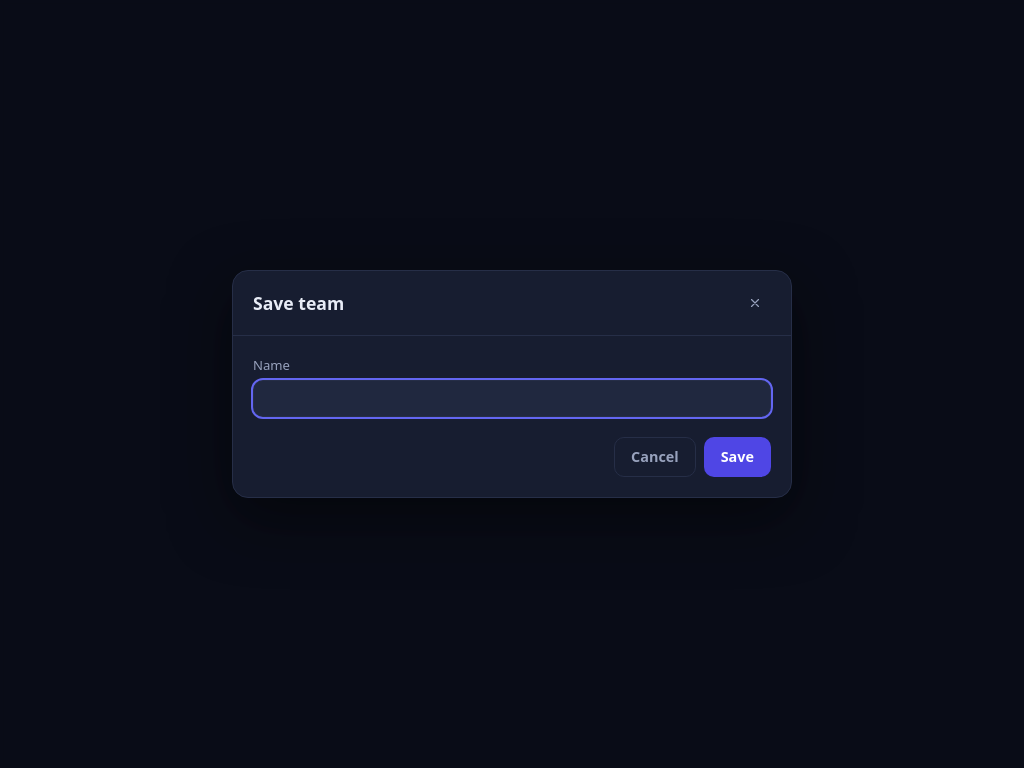
Test case: TeamNameDialog › refuses a name another team uses, ignoring case
Type "CYAN curry" into the field labelled "Name" at {"x": 512, "y": 398}, box [253,380,771,417]
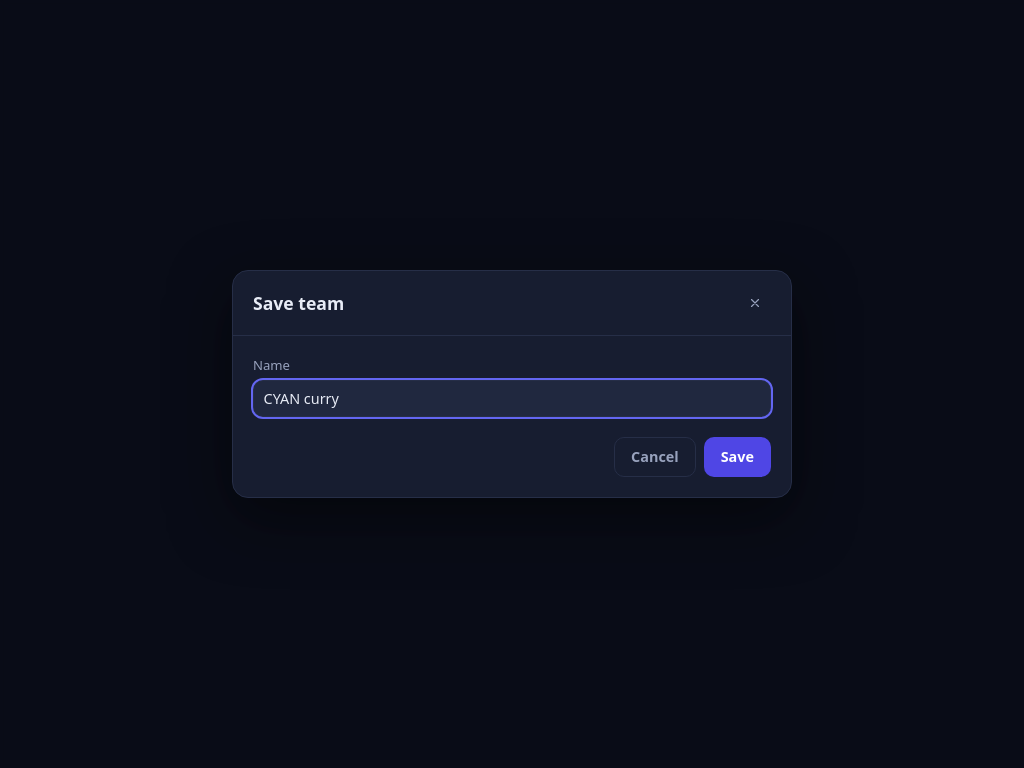
Click the button "Save" at {"x": 737, "y": 457}, box [704,437,771,477]
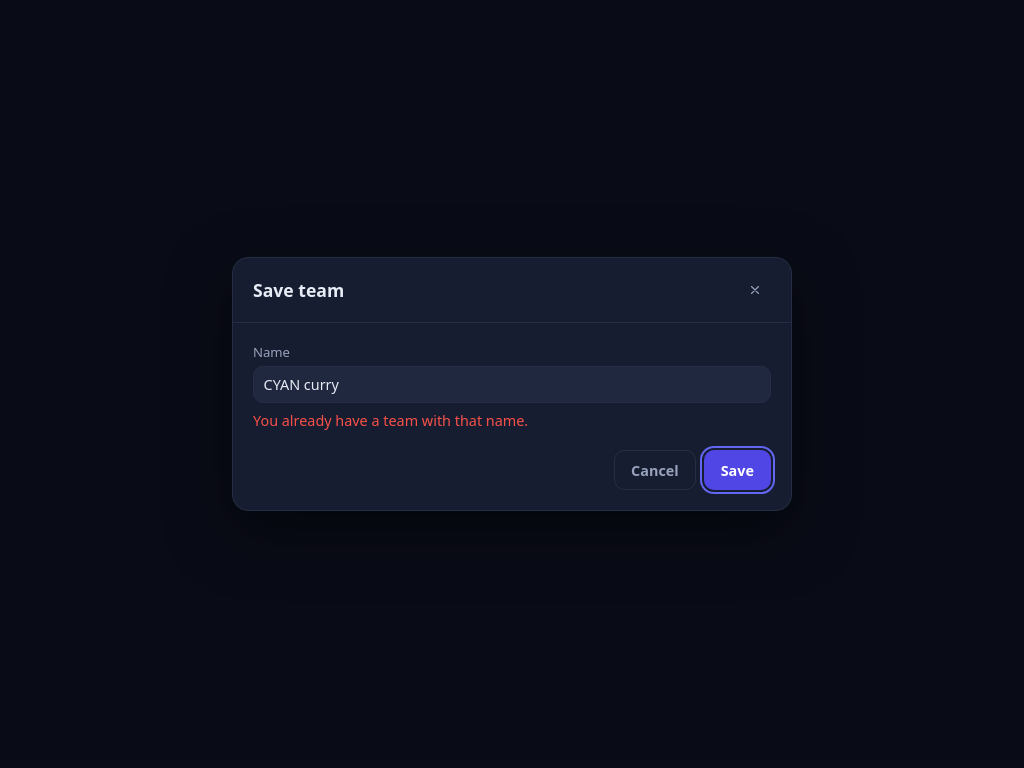
Check: the message reads "You already have a team with that name.", box [253,411,528,430]
